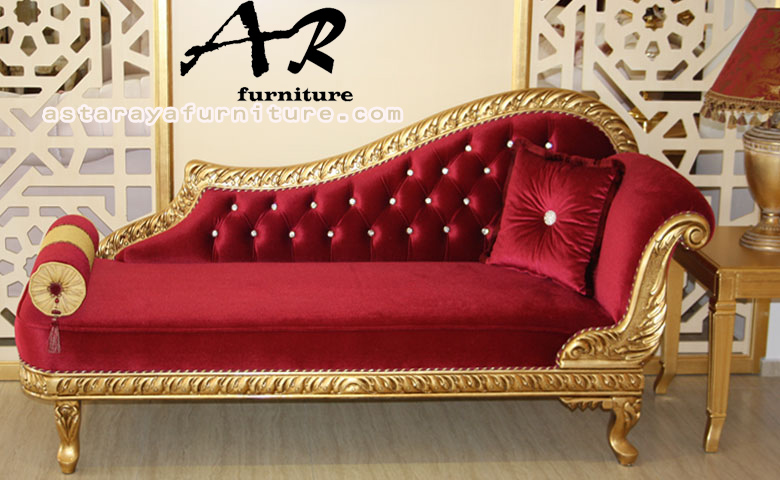Carving Chair: (30, 134, 671, 457)
